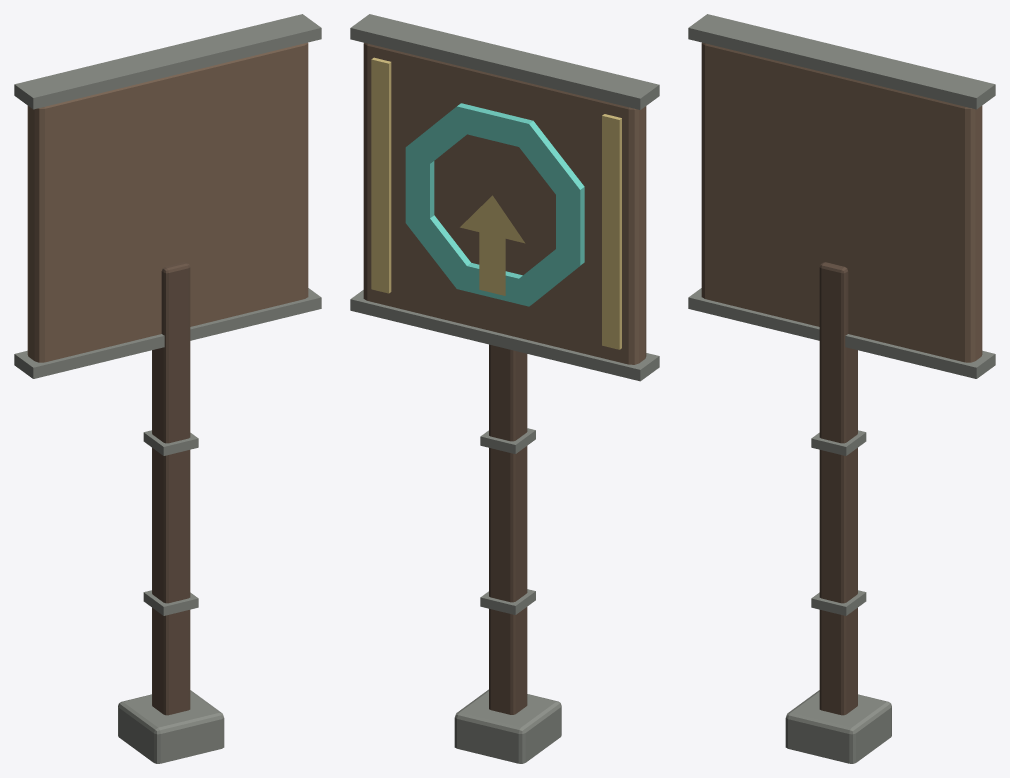
Rendered from rn2-floresta-sign.glb.
3 views of the same model, side by side, from view 1: azimuth 30°, elevation 25°; view 2: azimuth 150°, elevation 25°; view 3: azimuth 330°, elevation 25° (orthographic).
Visible parts, largest first — view 1: rn2_floresta_sign_body; view 2: rn2_floresta_sign_body, rn2_floresta_sign_glow; view 3: rn2_floresta_sign_body.
Part boxes in pixels (left/top/right/bottom): rn2_floresta_sign_body: left=14, top=14, right=321, bottom=763; rn2_floresta_sign_body: left=350, top=14, right=659, bottom=763; rn2_floresta_sign_glow: left=371, top=57, right=621, bottom=349; rn2_floresta_sign_body: left=688, top=14, right=995, bottom=763.
Bounding box in the file's own units: 2.64 × 5.98 × 0.64.
